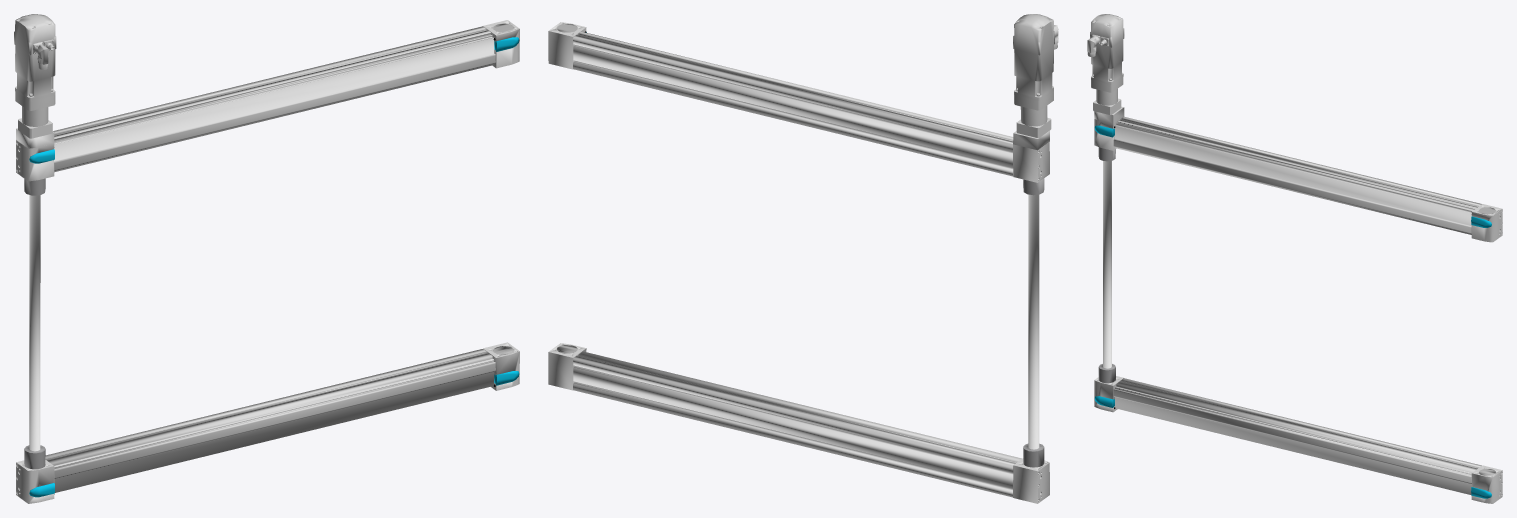
The picture shows the model from 3 angles, left to right: view 1: azimuth 30°, elevation 25°; view 2: azimuth 150°, elevation 25°; view 3: azimuth 330°, elevation 25°; orthographic projection. The views are drawn at different scales.
Visible parts, largest first — view 1: Base; view 2: Base; view 3: Base.
Boxes of the visible parts, x1,y1,x2,y2 form: Base: [14, 14, 519, 503]; Base: [548, 14, 1058, 503]; Base: [1087, 14, 1502, 503].
Size of the model in its own units: 1.29 by 1.2 by 0.1101.
